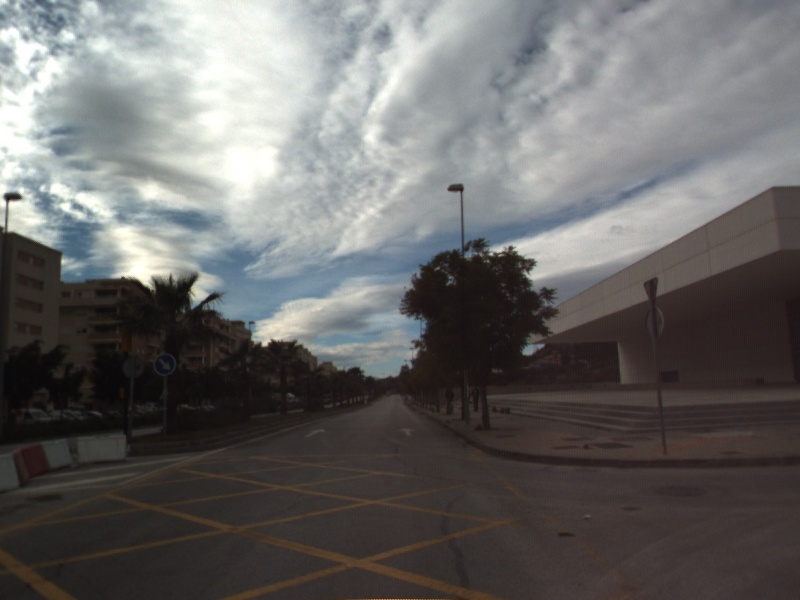STRAIGHT: (302, 426, 328, 439), (396, 425, 418, 438)
